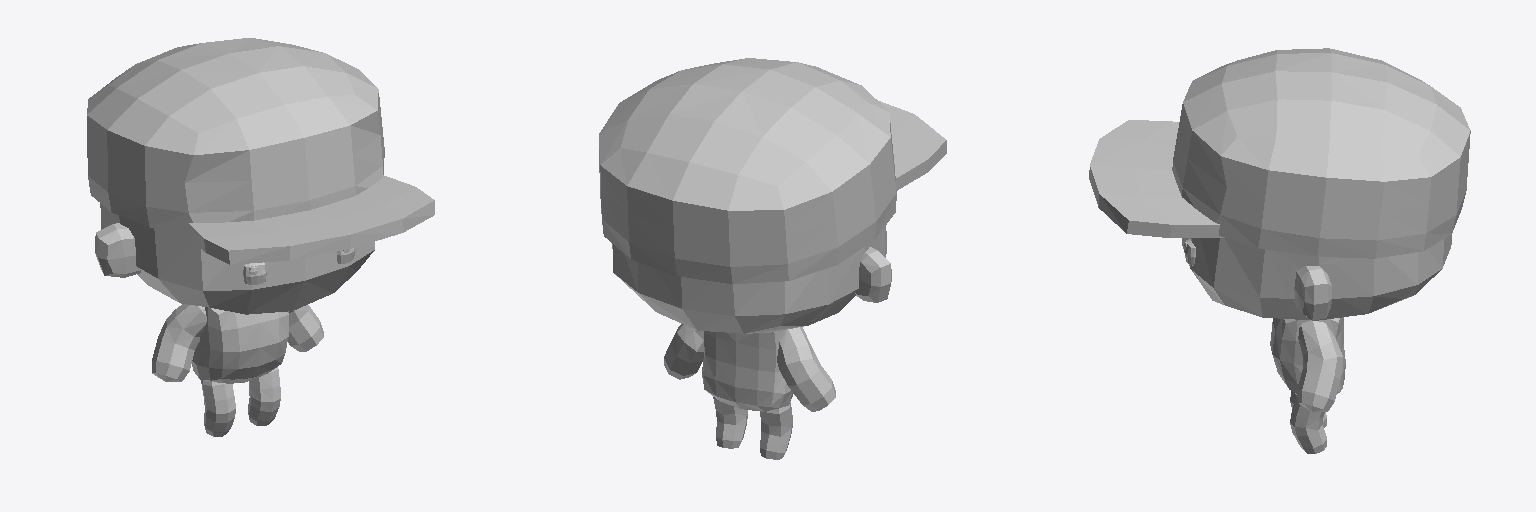
File: idle_0040.obj
3 renders of one model, left to right at view 1: azimuth 30°, elevation 25°; view 2: azimuth 150°, elevation 25°; view 3: azimuth 270°, elevation 25°, orthographic.
Visible parts, largest first — view 1: Object_41, Object_42, Object_36, Object_44, Object_38; view 2: Object_41, Object_44, Object_36, Object_42; view 3: Object_41, Object_36, Object_42, Object_44.
Boxes of the visible parts, x1=… form: Object_41: x1=87, y1=38, x2=384, y2=233; Object_42: x1=185, y1=111, x2=434, y2=264; Object_36: x1=95, y1=203, x2=374, y2=314; Object_44: x1=152, y1=304, x2=323, y2=436; Object_38: x1=243, y1=248, x2=355, y2=284; Object_41: x1=599, y1=58, x2=896, y2=283; Object_44: x1=664, y1=324, x2=835, y2=459; Object_36: x1=612, y1=226, x2=891, y2=333; Object_42: x1=879, y1=101, x2=946, y2=190; Object_41: x1=1183, y1=48, x2=1470, y2=258; Object_36: x1=1182, y1=234, x2=1451, y2=320; Object_42: x1=1089, y1=104, x2=1226, y2=237; Object_44: x1=1270, y1=317, x2=1345, y2=453.
Size of the model in its own units: 0.9691 by 1.22 by 1.14.